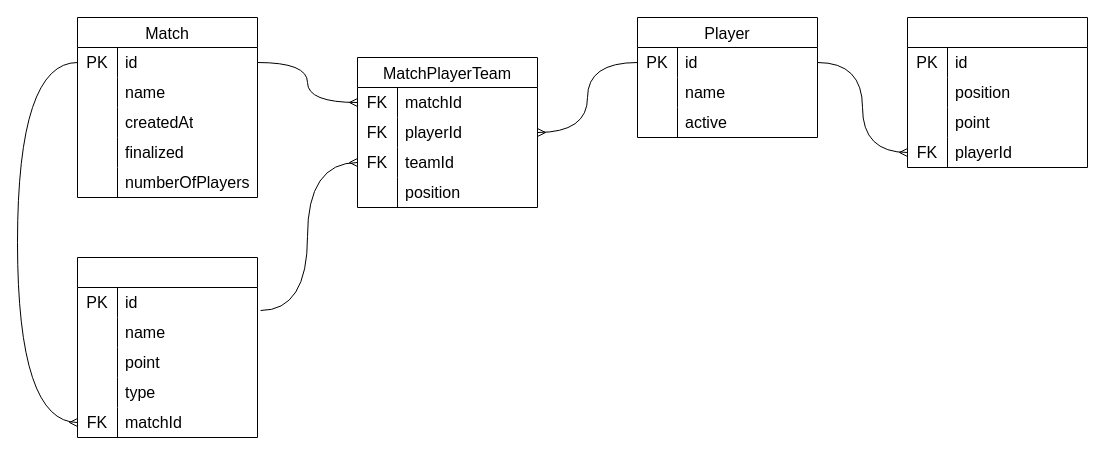
The diagram is 1105 pixels wide and 455 high, and some of its shapes have lost their labels. Here are the shapes that lost their labels. From the top down, the box of each, then its label:
(906, 16, 1088, 168): PlayerScore
(76, 256, 258, 438): Team
